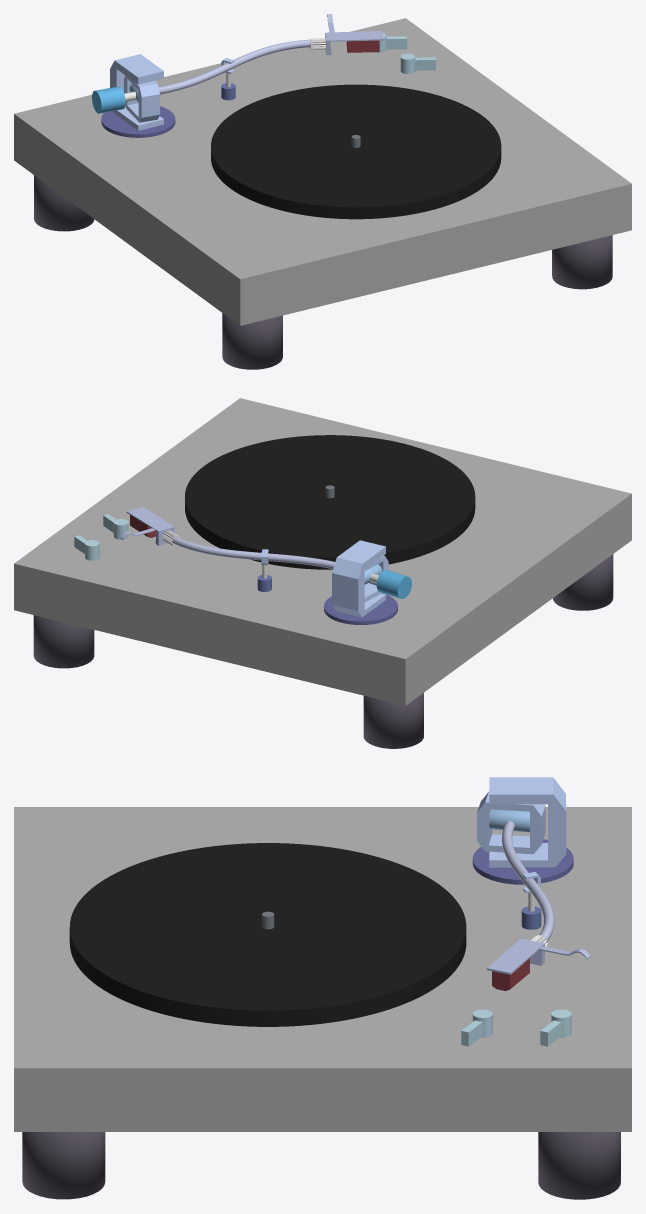
File: turntable.glb
3 views of the same model, one above another, from view 1: azimuth 30°, elevation 25°; view 2: azimuth 150°, elevation 25°; view 3: azimuth 270°, elevation 25° (orthographic). The views are drawn at different scales.
Visible parts, largest first — view 1: Cube, Cylinder, Cylinder.010, SketchUp, NurbsPath, SketchUp.002, Cylinder.001, Cube.002, Cylinder.004, Cylinder.011; view 2: Cube, Cylinder, Cylinder.010, SketchUp, NurbsPath, Cylinder.001, Cube.002, Cylinder.004; view 3: Cube, Cylinder, Cylinder.010, SketchUp, SketchUp.002, Cylinder.001, Cube.002, NurbsPath, Cylinder.011, Cylinder.009, Cylinder.002, Cube.004.
Boxes of the visible parts, <box> form: Cube: <box>14,18,631,325</box>; Cylinder: <box>211,84,501,219</box>; Cylinder.010: <box>34,175,612,369</box>; SketchUp: <box>110,54,163,130</box>; NurbsPath: <box>158,39,310,94</box>; SketchUp.002: <box>124,75,159,122</box>; Cylinder.001: <box>101,106,175,137</box>; Cube.002: <box>325,14,383,55</box>; Cylinder.004: <box>92,86,125,113</box>; Cylinder.011: <box>400,53,435,73</box>; Cube: <box>14,398,631,705</box>; Cylinder: <box>185,435,475,569</box>; Cylinder.010: <box>33,554,613,748</box>; SketchUp: <box>332,540,385,617</box>; NurbsPath: <box>172,537,335,568</box>; Cylinder.001: <box>324,593,397,624</box>; Cube.002: <box>120,506,174,545</box>; Cylinder.004: <box>376,570,411,598</box>; Cube: <box>14,807,631,1131</box>; Cylinder: <box>69,843,466,1026</box>; Cylinder.010: <box>22,1132,620,1199</box>; SketchUp: <box>489,777,566,867</box>; SketchUp.002: <box>477,791,545,854</box>; Cylinder.001: <box>472,839,573,884</box>; Cube.002: <box>486,938,590,974</box>; NurbsPath: <box>502,821,554,941</box>; Cylinder.011: <box>461,1009,492,1046</box>; Cylinder.009: <box>540,1009,571,1046</box>; Cylinder.002: <box>489,809,529,832</box>; Cube.004: <box>492,958,529,990</box>.
Size of the model in its own units: 8.89 by 3.37 by 8.89.
